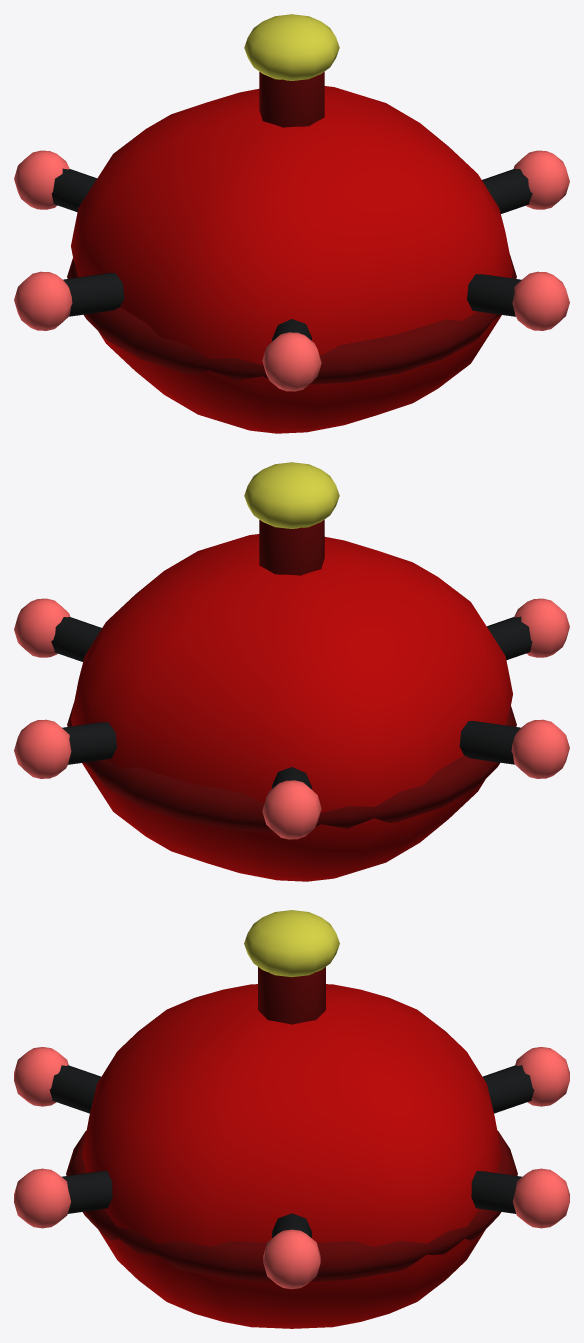
Rendered from AirMine.glb.
3 views of the same model, one above another, from view 1: azimuth 30°, elevation 25°; view 2: azimuth 150°, elevation 25°; view 3: azimuth 270°, elevation 25° (orthographic).
Parts seen in each view (by area): view 1: Body, Sensors, Cap; view 2: Body, Sensors, Cap; view 3: Body, Sensors, Cap.
Boxes of the visible parts, left/top/right/bottom form: Body: left=67, top=86, right=516, bottom=433; Sensors: left=14, top=150, right=569, bottom=391; Cap: left=244, top=14, right=339, bottom=127; Body: left=67, top=534, right=516, bottom=881; Sensors: left=14, top=598, right=569, bottom=839; Cap: left=244, top=462, right=339, bottom=575; Body: left=66, top=984, right=517, bottom=1328; Sensors: left=14, top=1047, right=569, bottom=1289; Cap: left=244, top=910, right=339, bottom=1024.
Bounding box in the file's own units: 0.8904 × 0.5992 × 0.7783.
1 material, 1 textured.
